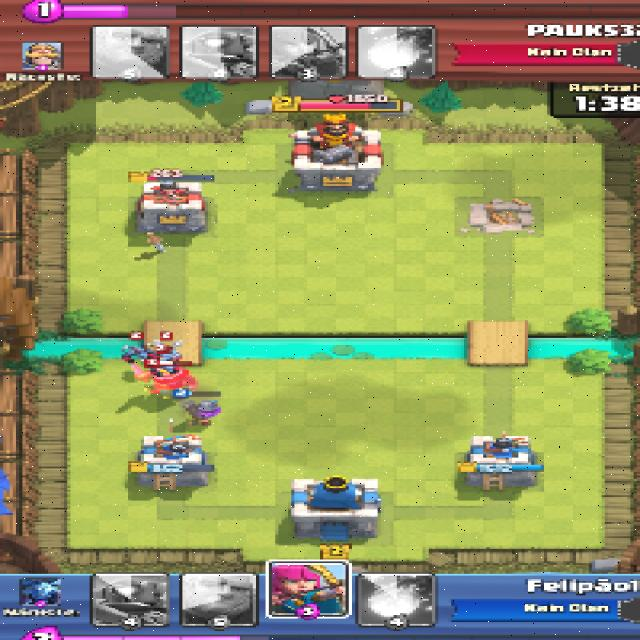Enemy-Knight: (130, 367, 202, 391)
Enemy-Minion: (147, 358, 183, 374), (119, 346, 151, 362), (154, 346, 182, 362)
Player-Musketeer: (175, 400, 222, 426)
